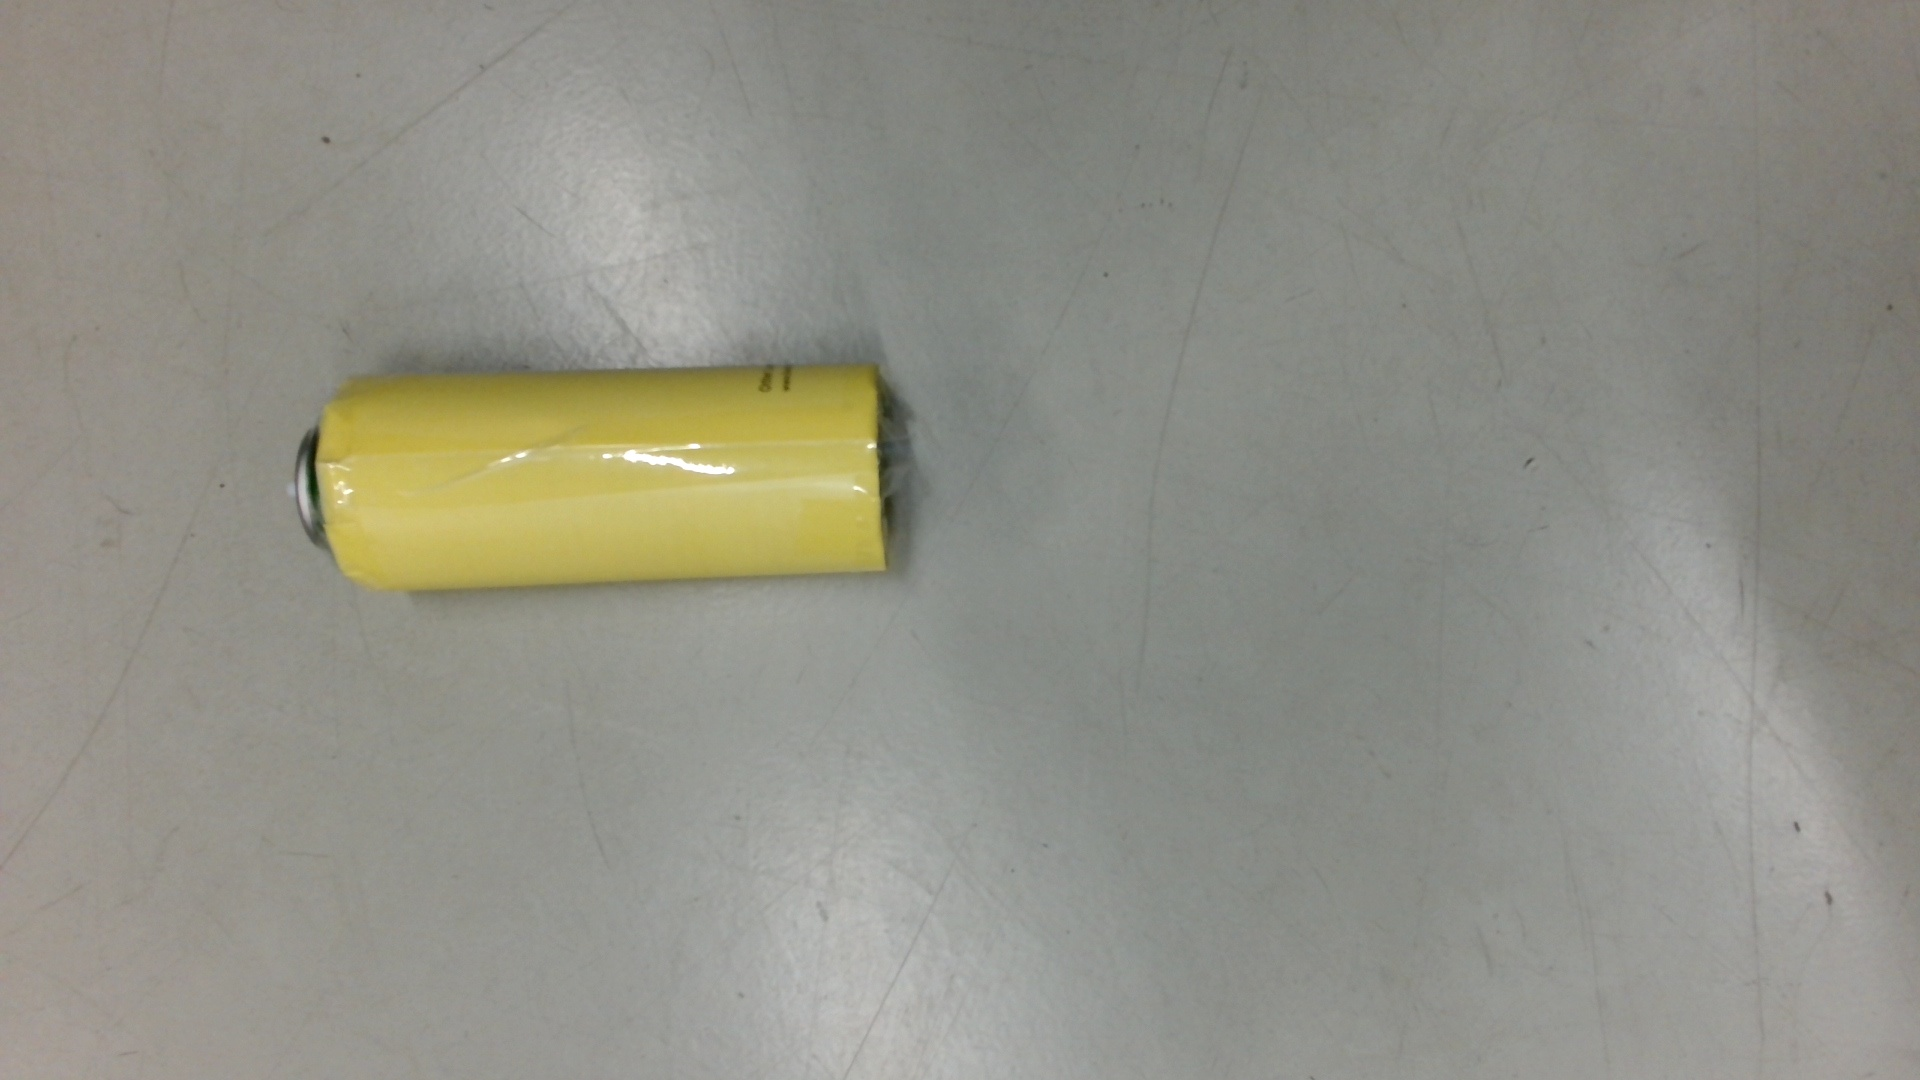Cylinder: (278, 363, 916, 607)
